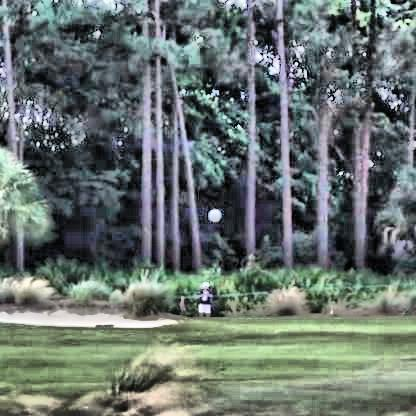golfball: (206, 206, 217, 219)
